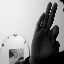f: (30, 1, 62, 64)
